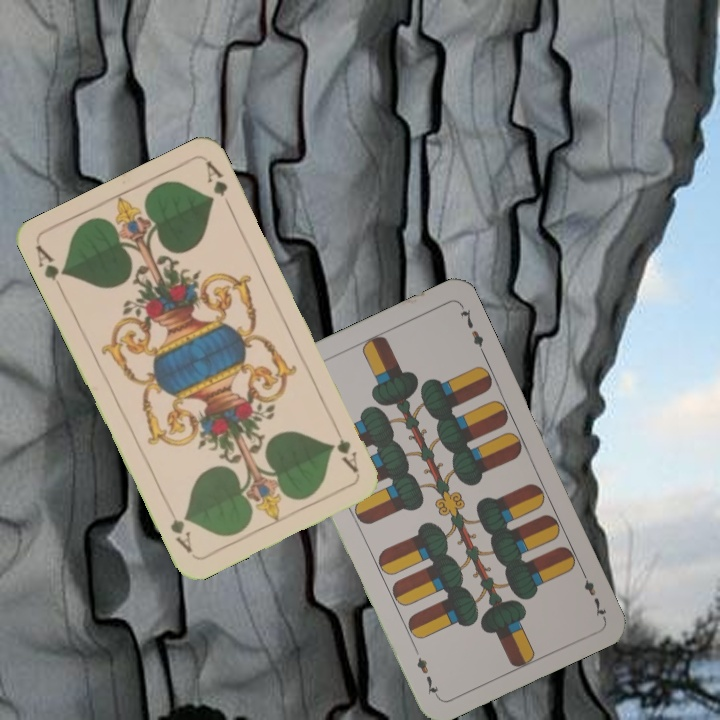E7: (576, 564, 609, 620)
GA: (329, 421, 361, 476), (32, 242, 69, 283)
